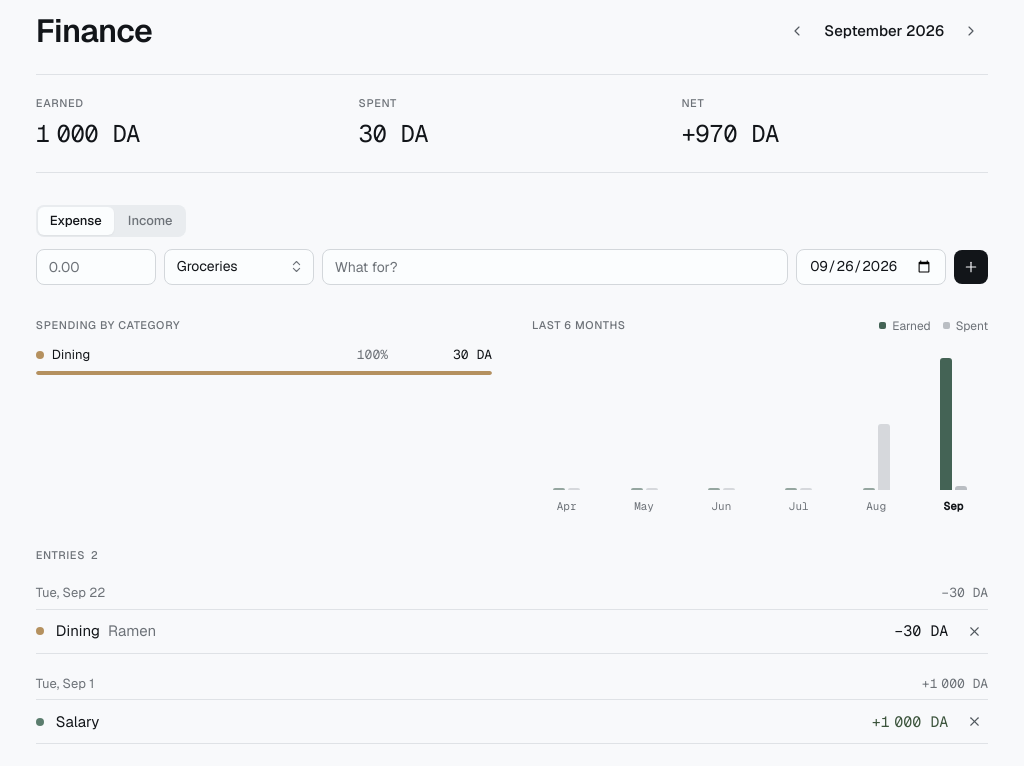
it: FinanceBoard › logging an entry in the viewed month adds it to the list
In the field named "Amount": {"x": 96, "y": 267} [36,249,156,285], type "15"
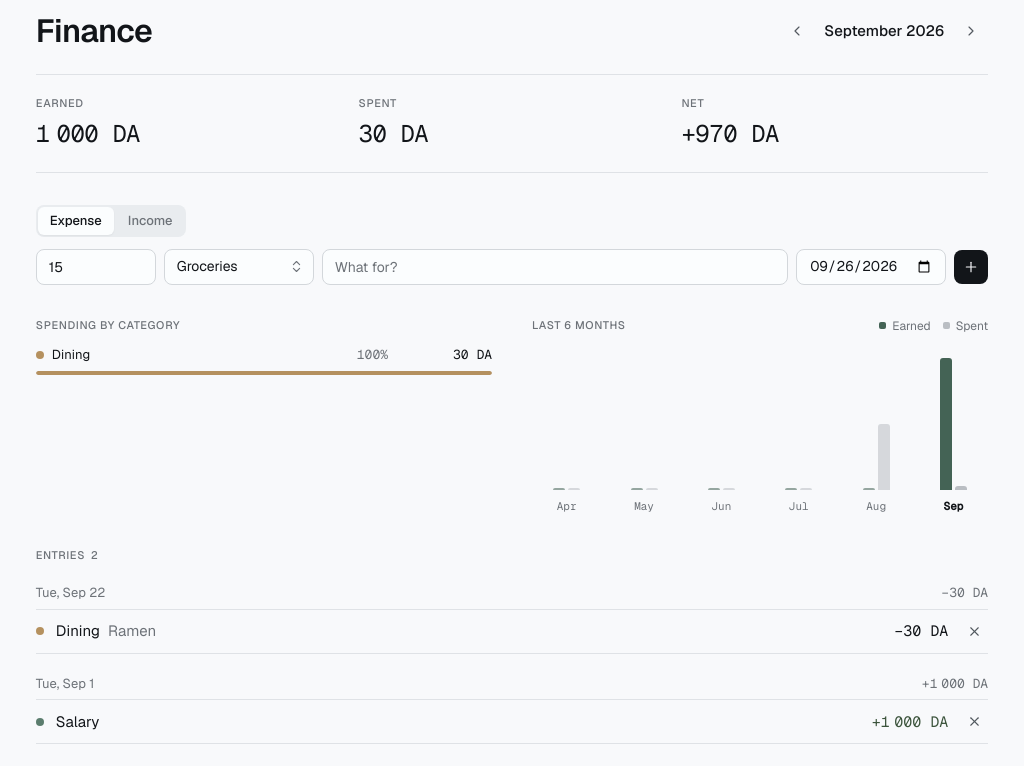
In the field named "Note": {"x": 555, "y": 267} [322,249,788,285], type "Bread"
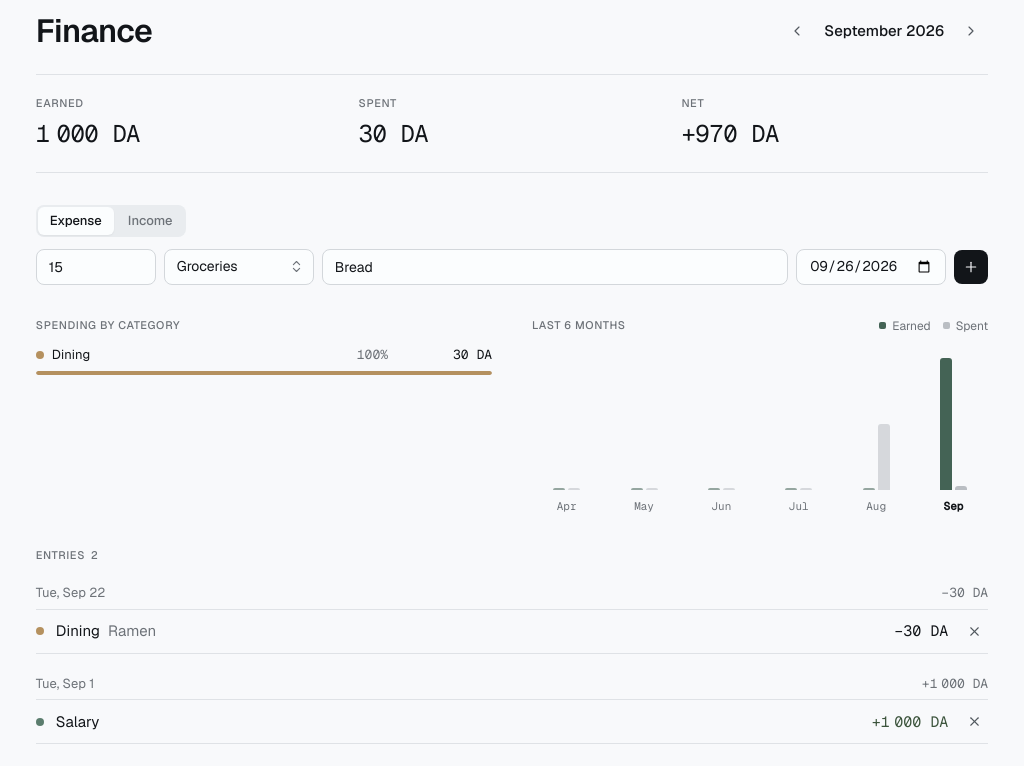
Click the button named "Log entry": {"x": 971, "y": 267} [954,250,988,284]
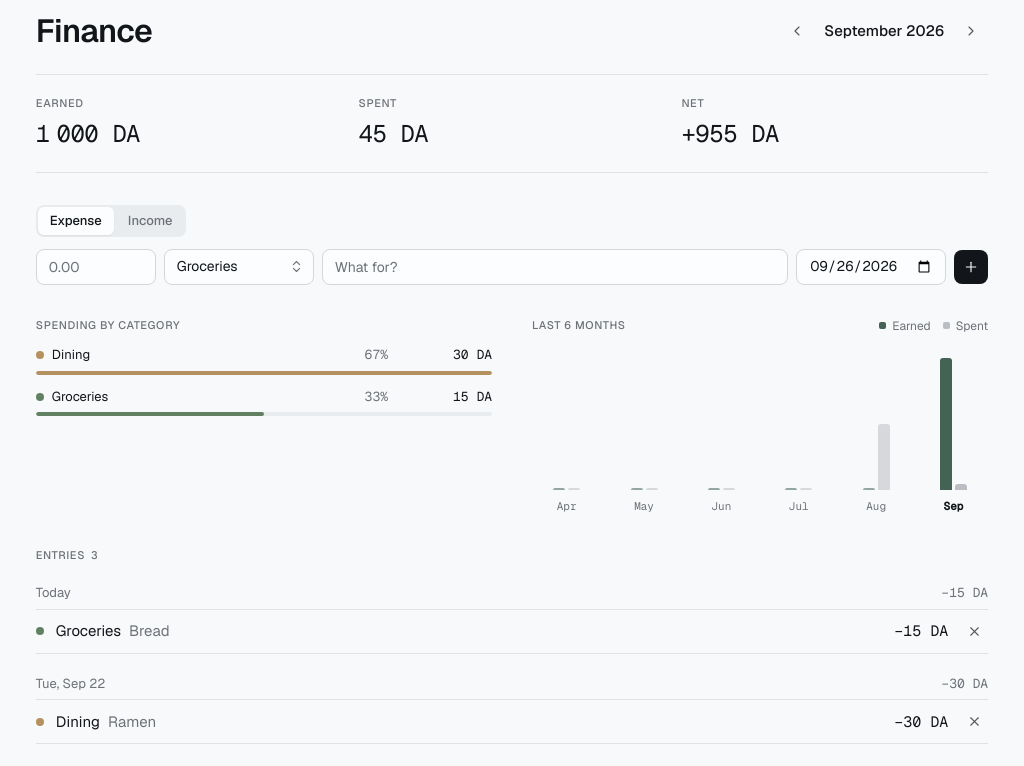
Check: the text "Bread" is shown, box [129,621,170,640]
Check: the text "Today" is shown, box [36,583,71,603]
